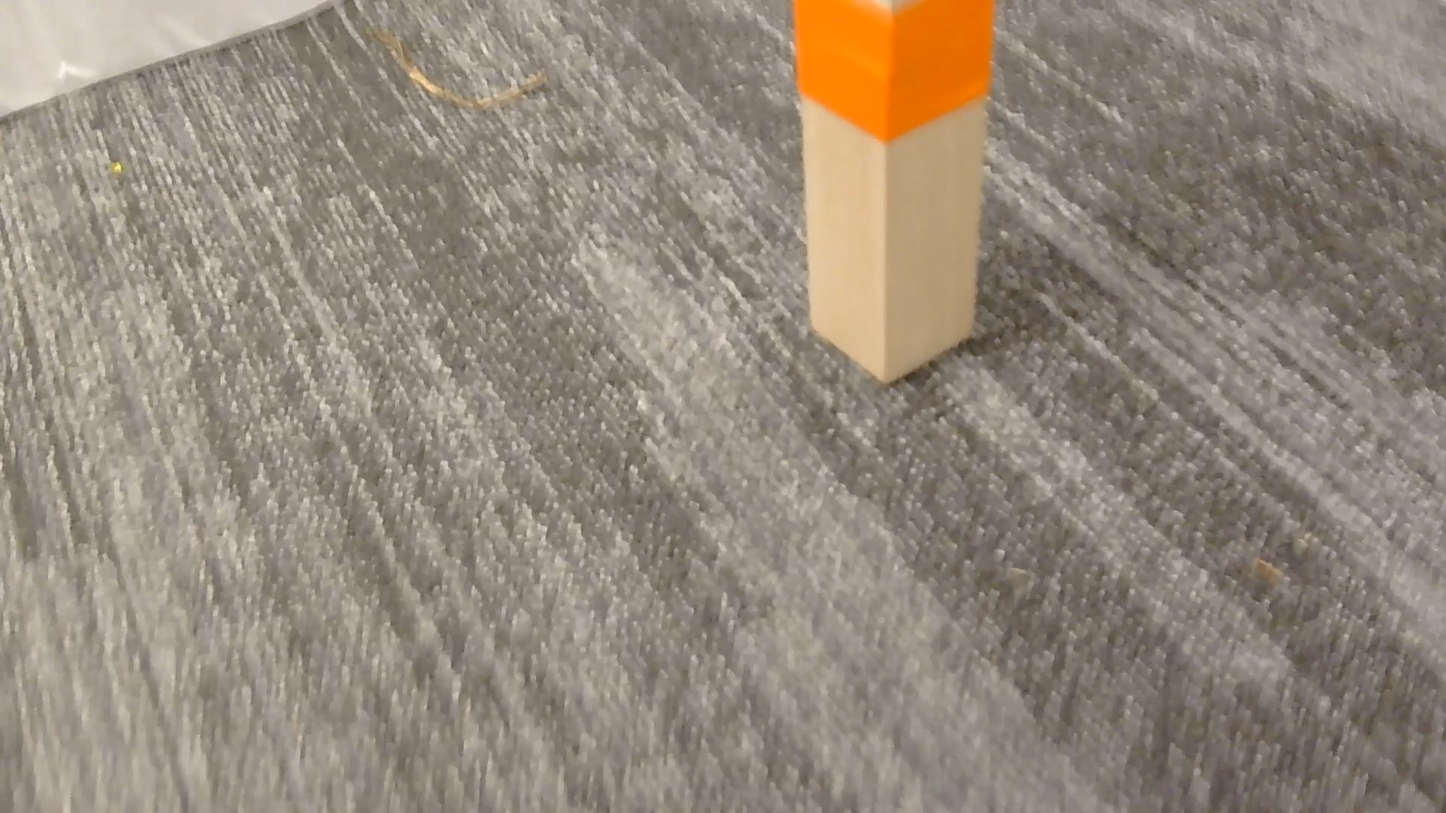Wooden Block: (792, 0, 994, 381)
